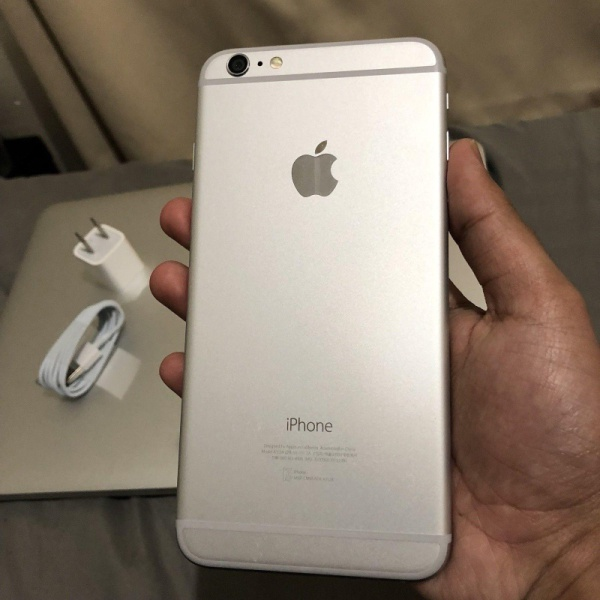apple: (275, 137, 364, 212)
